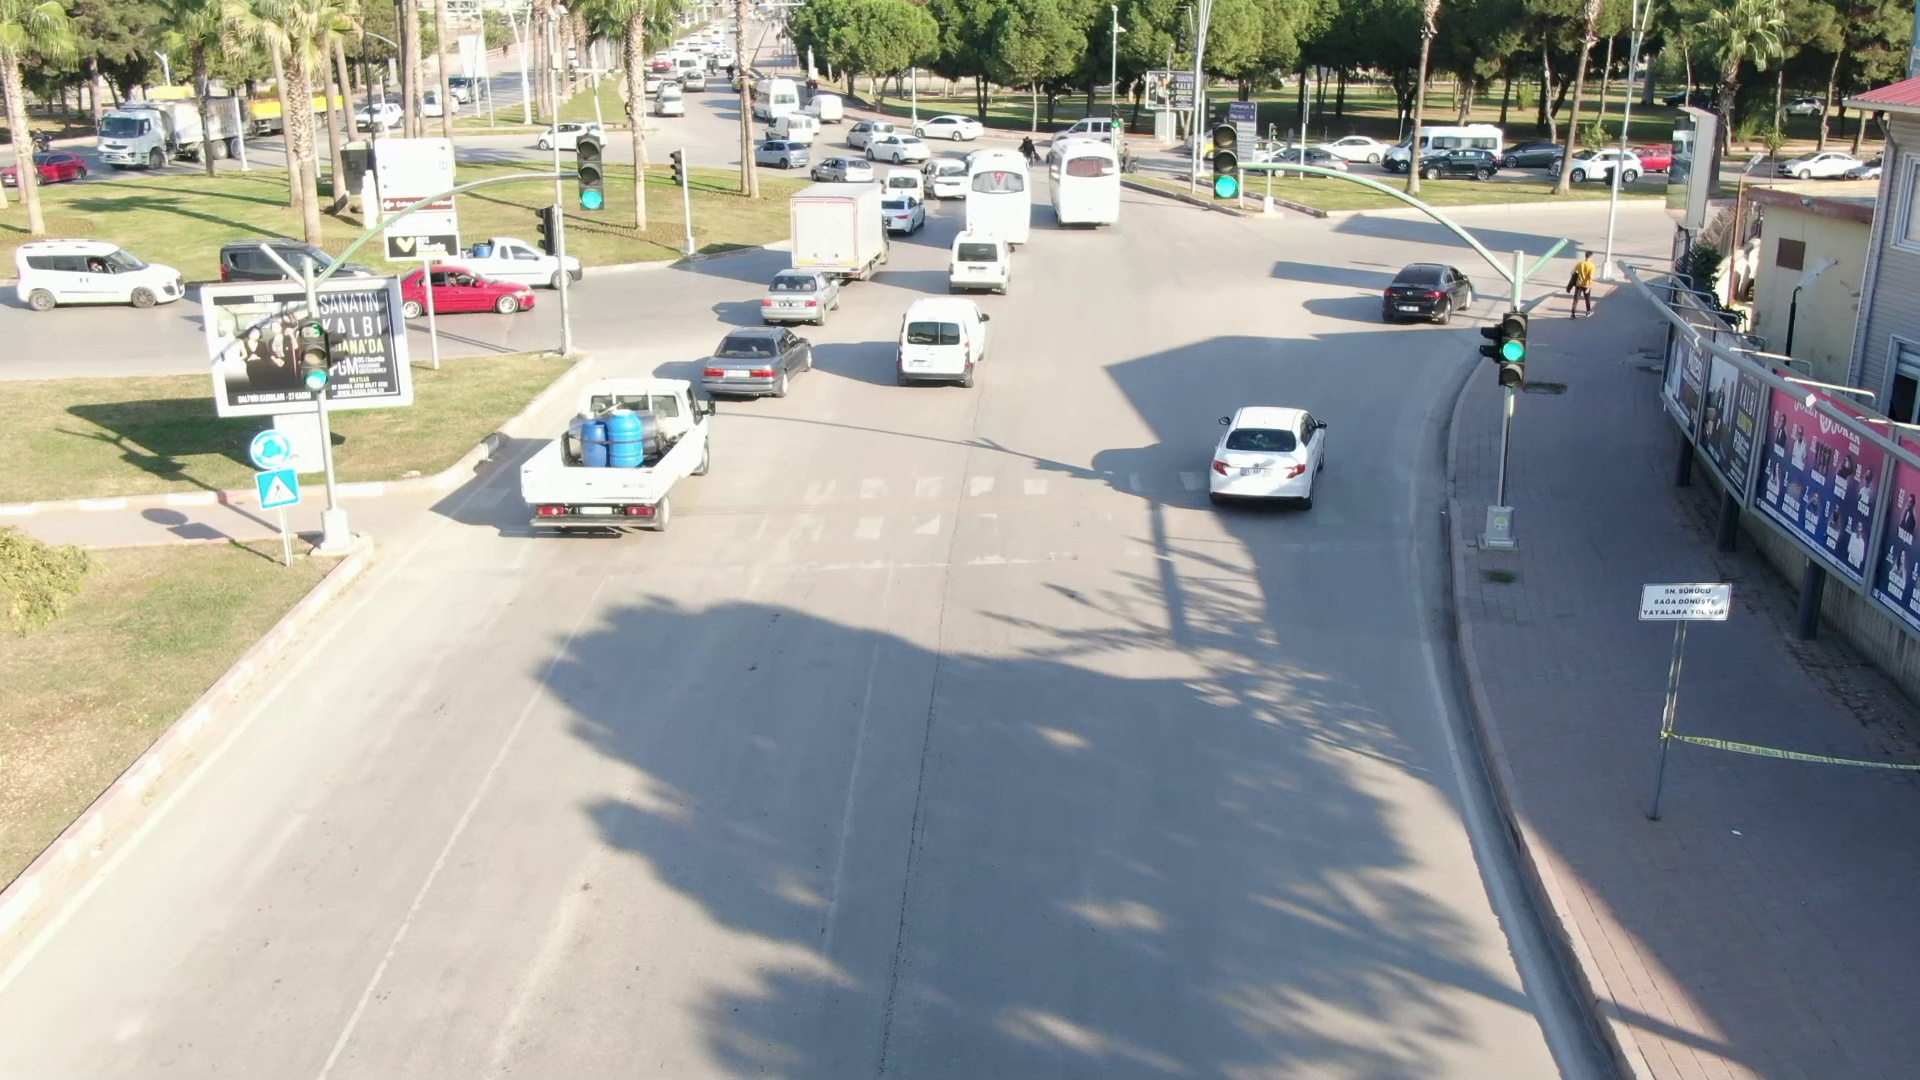car: (510, 365, 721, 550), (1179, 372, 1341, 513), (4, 225, 196, 326), (879, 288, 1002, 401), (680, 316, 837, 402), (1370, 244, 1474, 341), (1039, 131, 1134, 237), (744, 254, 851, 333), (934, 225, 1041, 296), (903, 104, 996, 147)
person: (1553, 245, 1612, 317)
